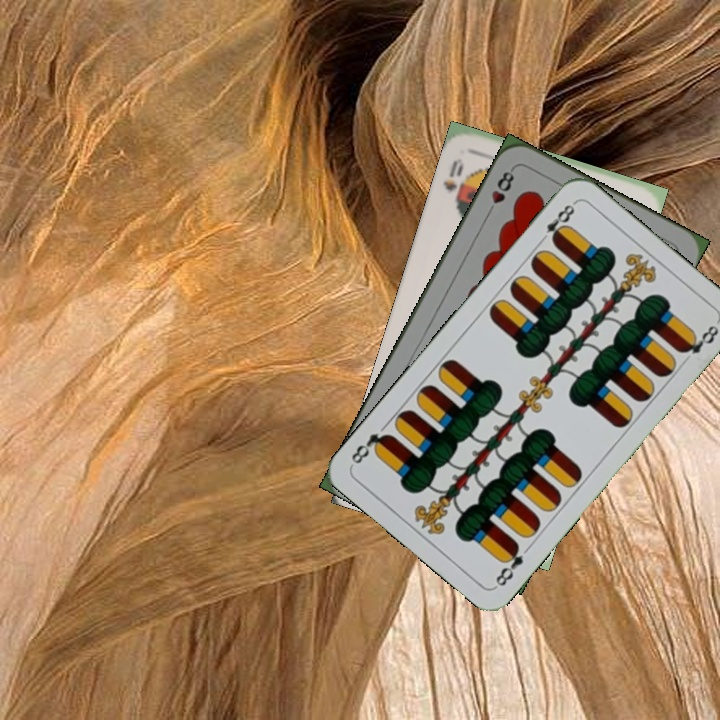E8: (534, 198, 578, 247), (491, 539, 527, 590)
H8: (482, 164, 517, 218)
SO: (438, 154, 467, 194)
